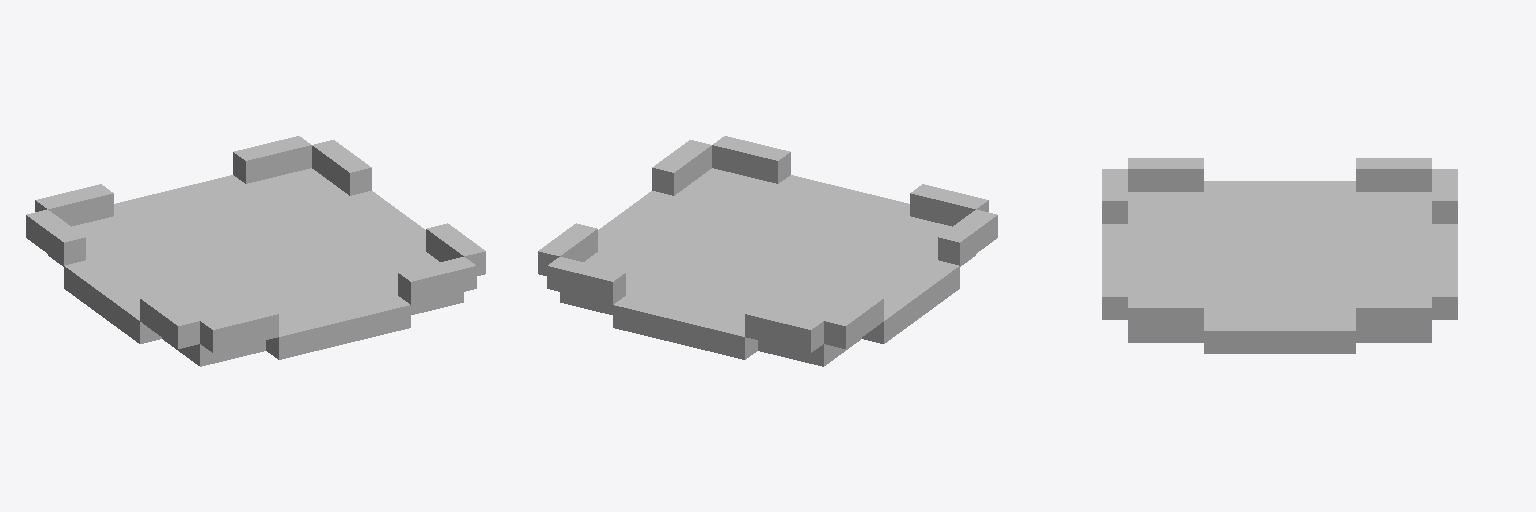
Rendered from side_ym.obj.
3 views of the same model, side by side, from view 1: azimuth 30°, elevation 25°; view 2: azimuth 150°, elevation 25°; view 3: azimuth 270°, elevation 25° (orthographic).
Size of the model in its own units: 14 by 2 by 14.